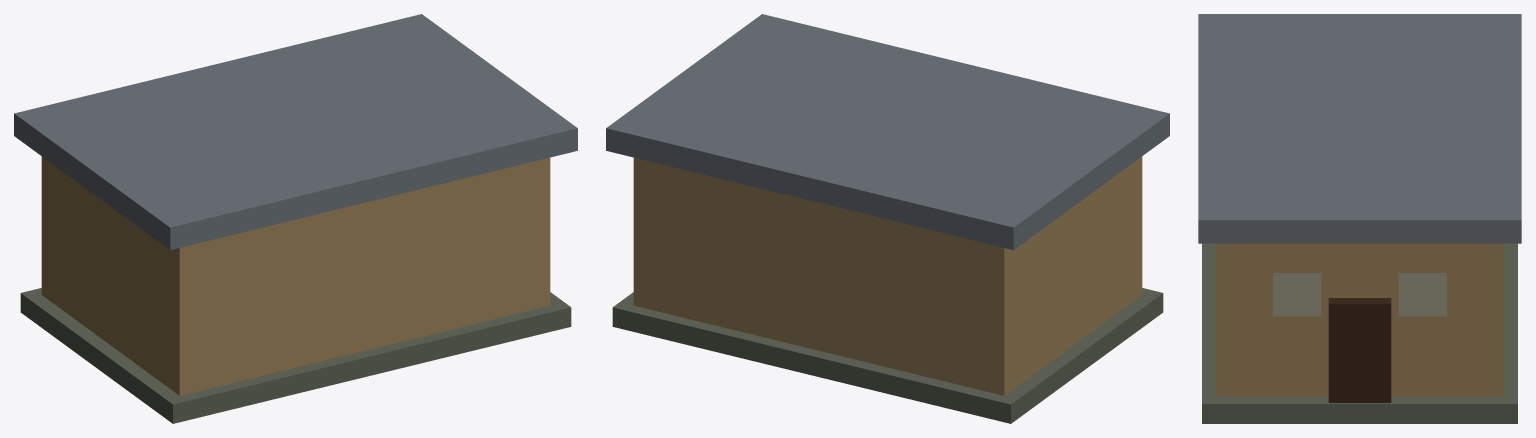
The model's file is warehouse.glb.
3 views of the same model, side by side, from view 1: azimuth 30°, elevation 25°; view 2: azimuth 150°, elevation 25°; view 3: azimuth 270°, elevation 25° (orthographic). The views are drawn at different scales.
Parts seen in each view (by area): view 1: roof, walls, foundation; view 2: roof, walls, foundation; view 3: roof, walls, foundation, frontDoor, windowLeft, windowRight.
Part boxes in pixels (bbox=[...]): roof: bbox=[14, 14, 577, 250]; walls: bbox=[41, 156, 550, 395]; foundation: bbox=[20, 288, 571, 423]; roof: bbox=[606, 14, 1169, 250]; walls: bbox=[633, 156, 1142, 395]; foundation: bbox=[612, 288, 1163, 423]; roof: bbox=[1198, 14, 1521, 243]; walls: bbox=[1216, 243, 1503, 396]; foundation: bbox=[1202, 243, 1517, 423]; frontDoor: bbox=[1328, 298, 1391, 402]; windowLeft: bbox=[1273, 273, 1320, 316]; windowRight: bbox=[1399, 273, 1446, 316].
Size of the model in its own units: 2.64 by 1.23 by 1.75.
